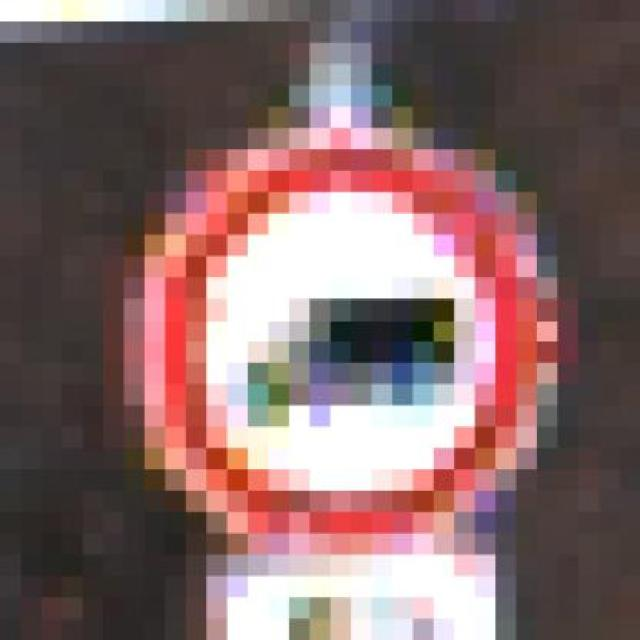Truck traffic is prohibited: (103, 107, 579, 555)
